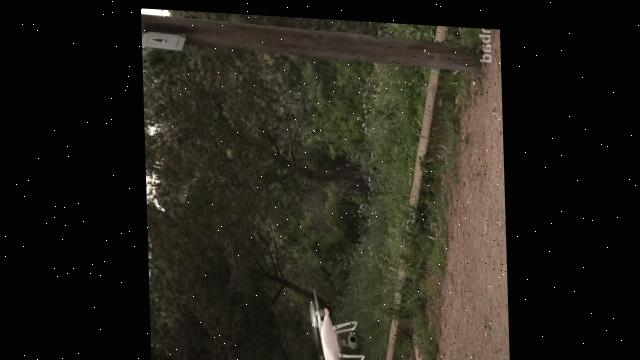drone: (304, 285, 362, 360)
